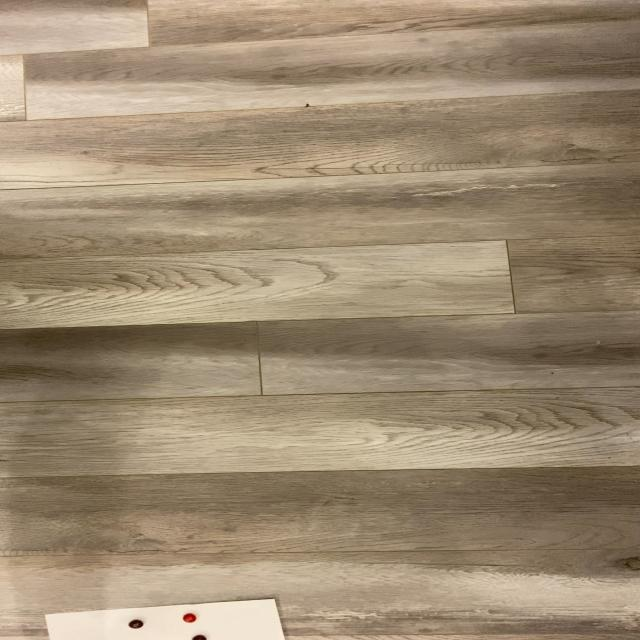smartie: (181, 614, 196, 624), (127, 621, 142, 630), (191, 636, 206, 640)
